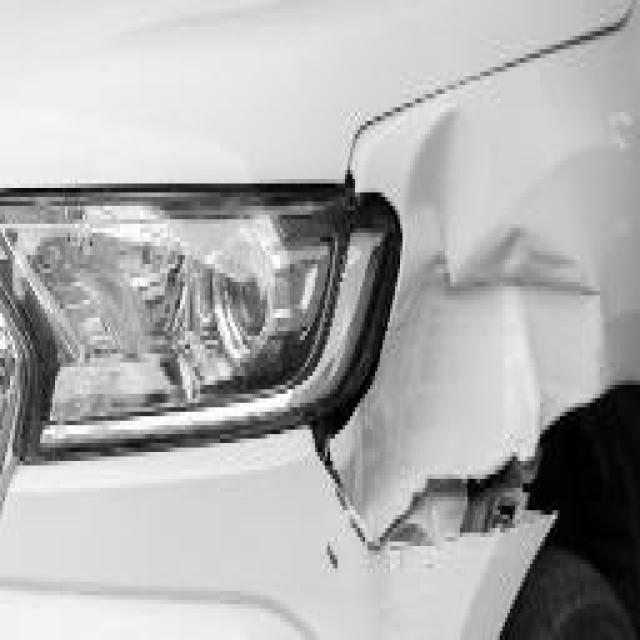Fender: (308, 44, 640, 557)
